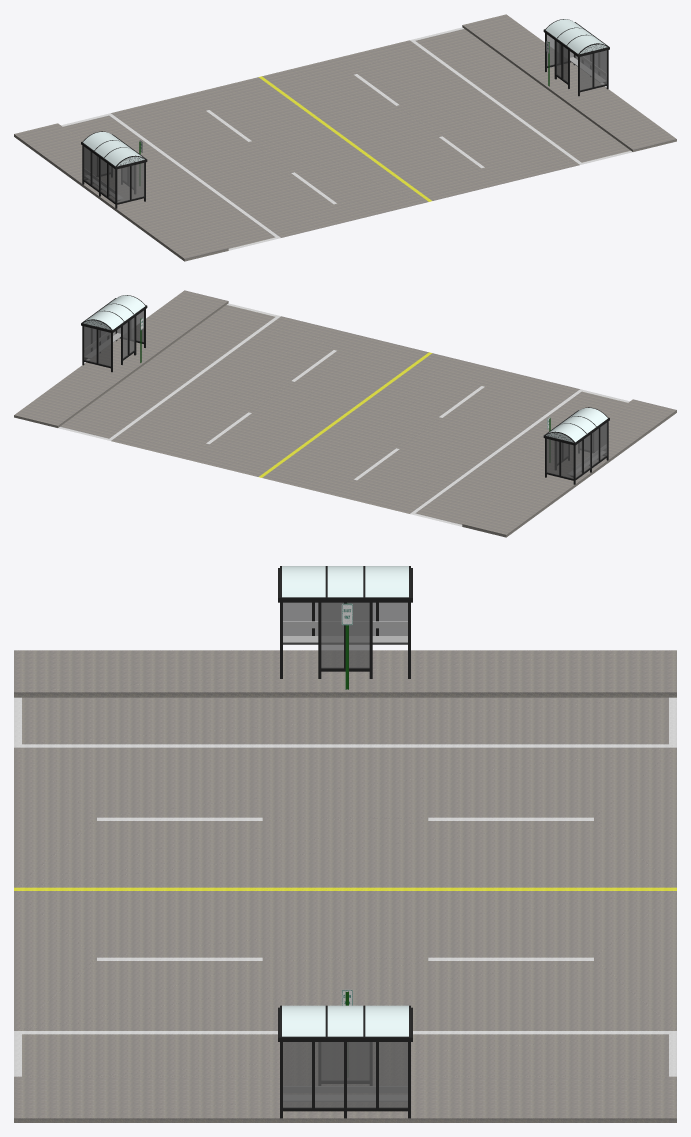
File: 2_road.dae
3 views of the same model, one above another, from view 1: azimuth 30°, elevation 25°; view 2: azimuth 150°, elevation 25°; view 3: azimuth 270°, elevation 25° (orthographic). The views are drawn at different scales.
Visible parts, largest first — view 1: SketchUp (×7), BusStop_Half (×4); view 2: SketchUp (×7), BusStop_Half (×4); view 3: SketchUp (×7), BusStop_Half (×10), BusStop_Top (×4), BusStop_Bench (×4).
Part boxes in pixels (x1,y1,x2,y2): SketchUp (×7): [14, 14, 676, 261]; BusStop_Half (×4): [117, 50, 606, 202]; SketchUp (×7): [14, 290, 676, 537]; BusStop_Half (×4): [84, 326, 573, 478]; SketchUp (×7): [14, 650, 676, 1122]; BusStop_Half (×10): [283, 602, 407, 1107]; BusStop_Top (×4): [282, 566, 408, 1036]; BusStop_Bench (×4): [283, 621, 407, 1101].
Size of the model in its own units: 1124 by 672 by 111.
Materials: 11 (4 with a texture image).
